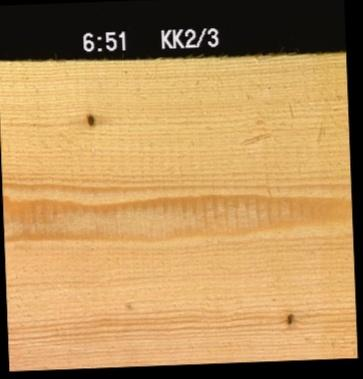dry_knot: (283, 309, 293, 325), (85, 112, 94, 127)
